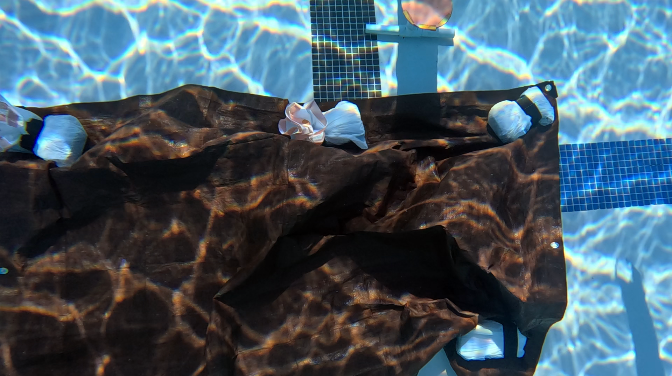pathmarker: (401, 0, 452, 30)
sandbag: (0, 79, 567, 375)
